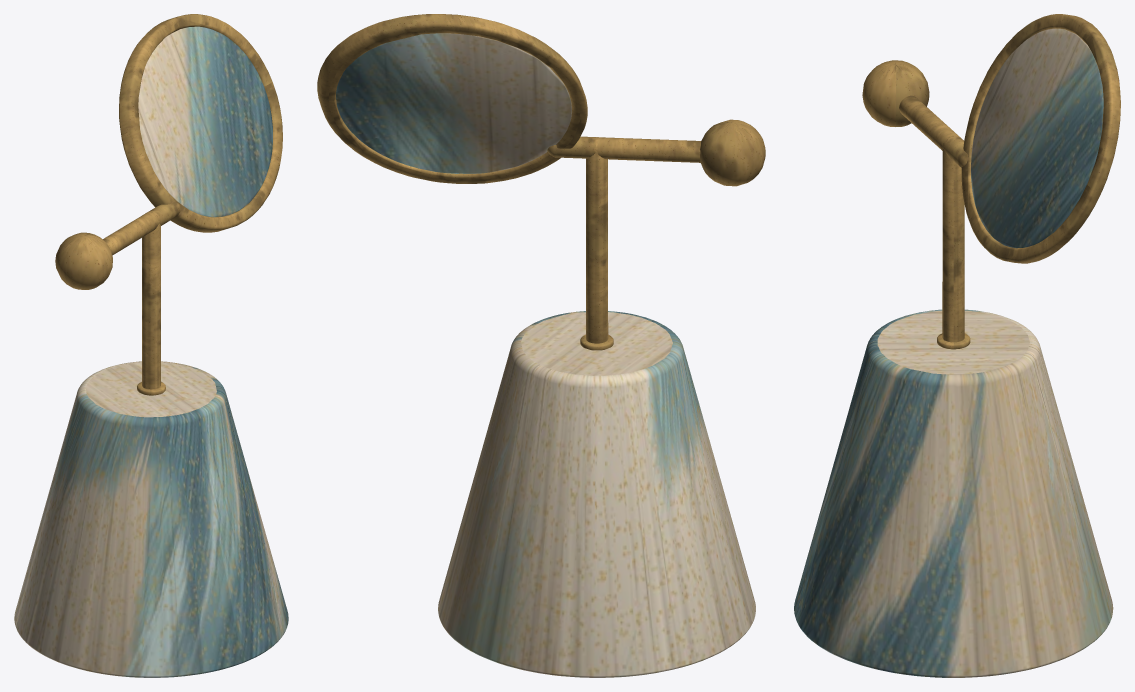
The model's file is bishop-white.glb.
3 views of the same model, side by side, from view 1: azimuth 30°, elevation 25°; view 2: azimuth 150°, elevation 25°; view 3: azimuth 270°, elevation 25° (orthographic). The views are drawn at different scales.
Visible parts, largest first — view 1: Telo, Vlozka_cocky, Ram_cocky, Sloupek, Kulicka, Rameno; view 2: Telo, Vlozka_cocky, Ram_cocky, Sloupek, Kulicka, Rameno; view 3: Telo, Vlozka_cocky, Ram_cocky, Sloupek, Kulicka, Rameno.
Boxes of the visible parts, <box> form: Telo: <box>14,361,288,677</box>; Vlozka_cocky: <box>138,26,272,217</box>; Ram_cocky: <box>119,14,282,232</box>; Sloupek: <box>142,212,160,389</box>; Kulicka: <box>55,232,112,289</box>; Rameno: <box>103,201,180,255</box>; Telo: <box>438,311,755,677</box>; Vlozka_cocky: <box>336,33,571,173</box>; Ram_cocky: <box>317,14,587,183</box>; Sloupek: <box>586,137,608,343</box>; Kulicka: <box>700,119,765,186</box>; Rameno: <box>547,136,700,162</box>; Telo: <box>794,309,1113,677</box>; Vlozka_cocky: <box>971,28,1103,248</box>; Ram_cocky: <box>961,14,1120,263</box>; Sloupek: <box>942,135,964,342</box>; Kulicka: <box>862,60,929,126</box>; Rameno: <box>899,95,971,167</box>.
Size of the model in its own units: 0.8067 by 1.38 by 0.6513.
Materials: 2 (2 with a texture image).
